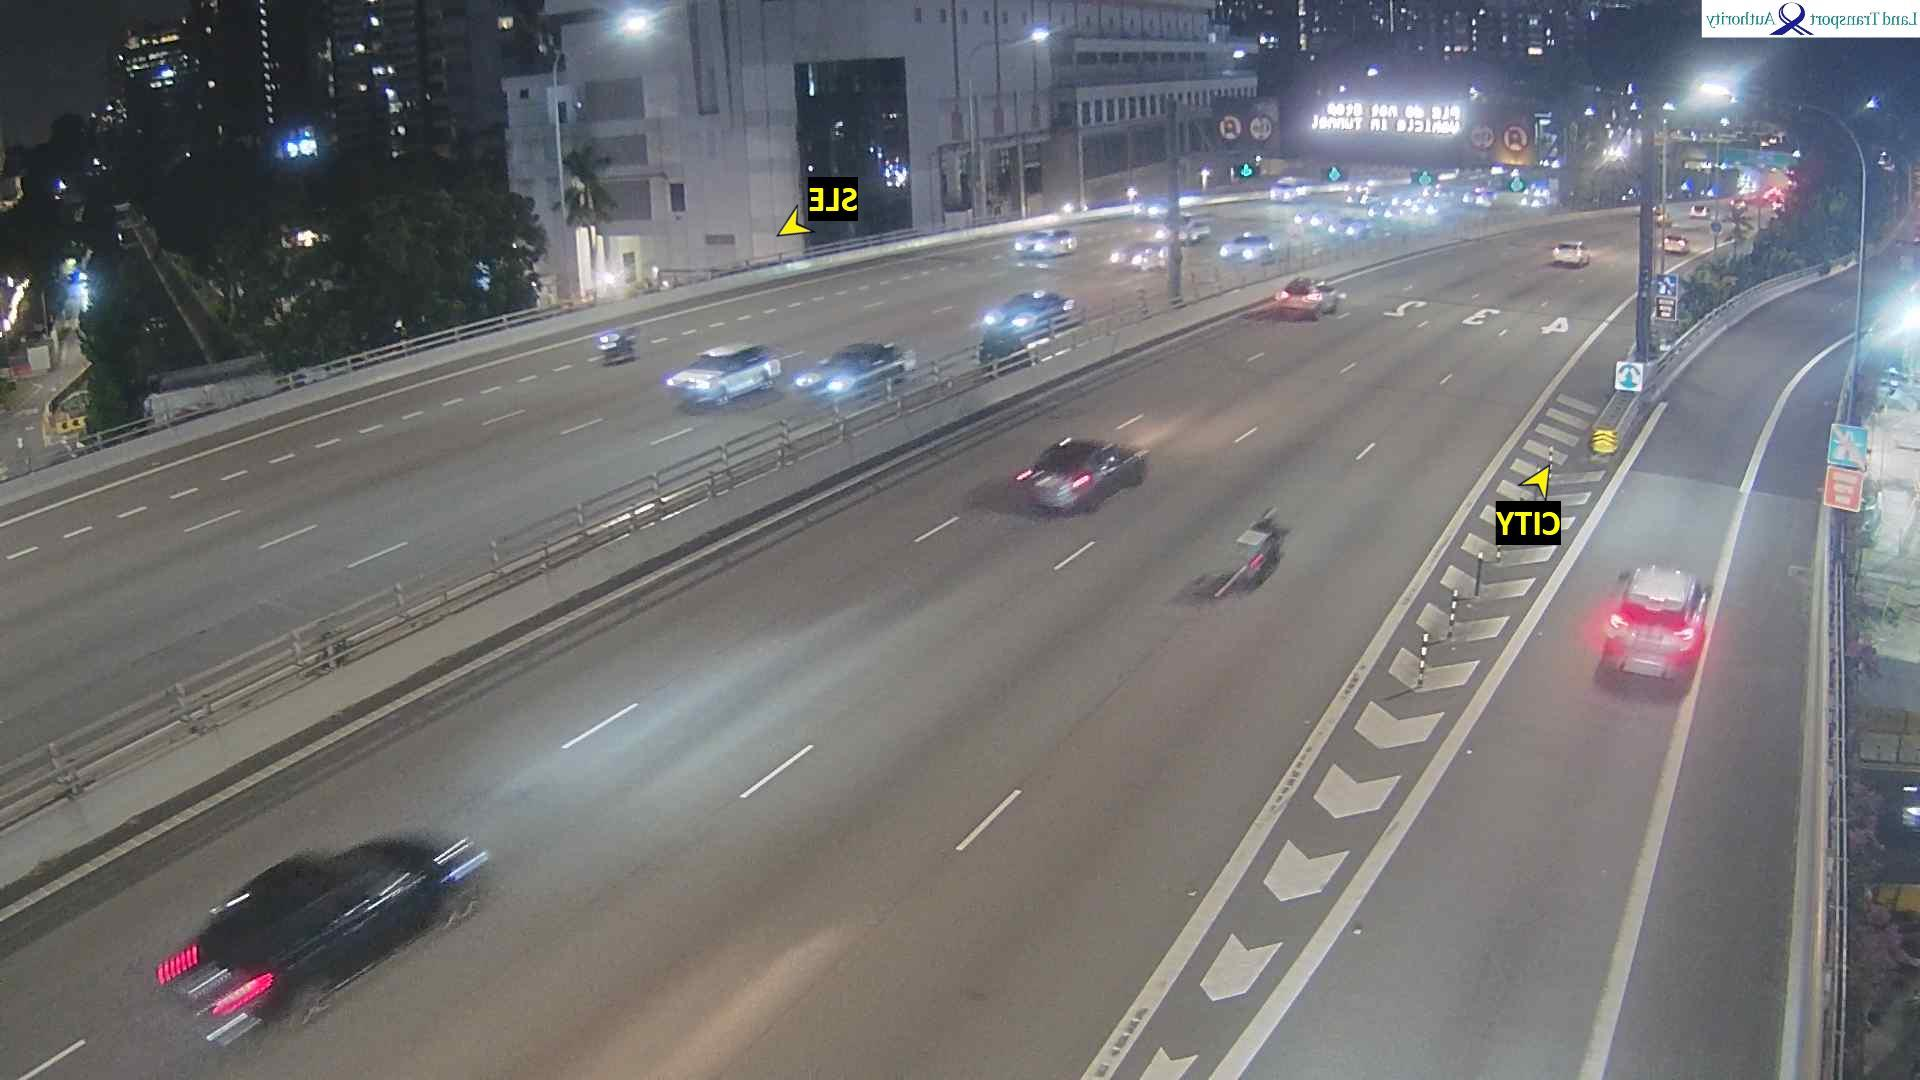incoming: (793, 356, 872, 402), (659, 359, 729, 409), (973, 299, 1038, 340), (1104, 244, 1150, 274), (1009, 233, 1051, 260), (1215, 236, 1257, 262), (1325, 218, 1353, 241), (596, 331, 612, 367), (1460, 190, 1484, 210), (1135, 199, 1159, 219), (1269, 182, 1290, 203)
